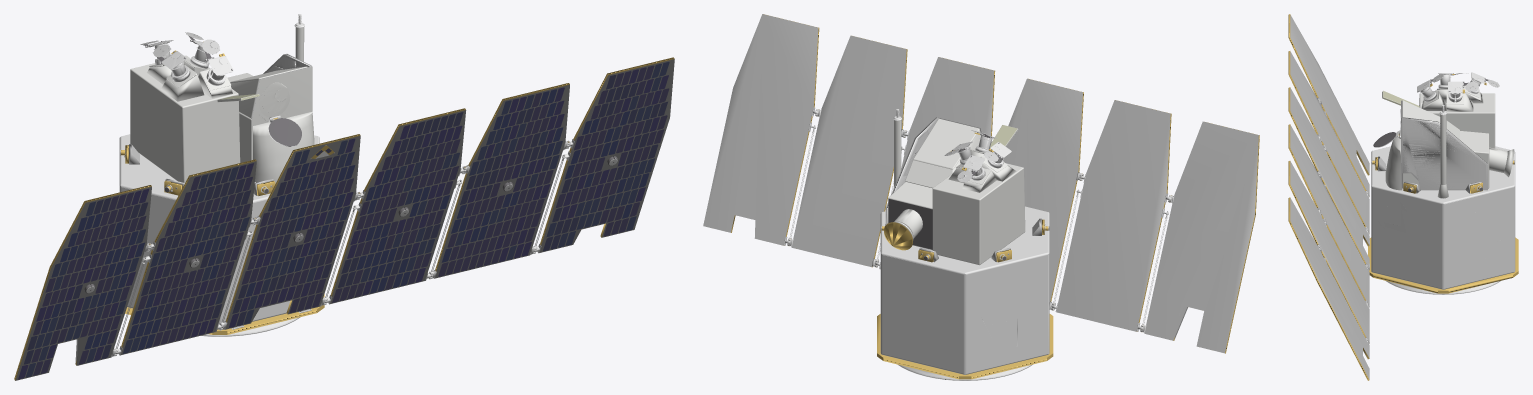
The model's file is Satelite.fbx.
3 renders of one model, left to right at view 1: azimuth 30°, elevation 25°; view 2: azimuth 150°, elevation 25°; view 3: azimuth 270°, elevation 25°, orthographic. The views are drawn at different scales.
Parts seen in each view (by area): view 1: Fake; view 2: Fake; view 3: Fake.
Part boxes in pixels (bbox=[...]): Fake: bbox=[14, 14, 674, 380]; Fake: bbox=[703, 14, 1259, 380]; Fake: bbox=[1288, 14, 1518, 380].
Bounding box in the file's own units: 4140 × 1721 × 1854.
